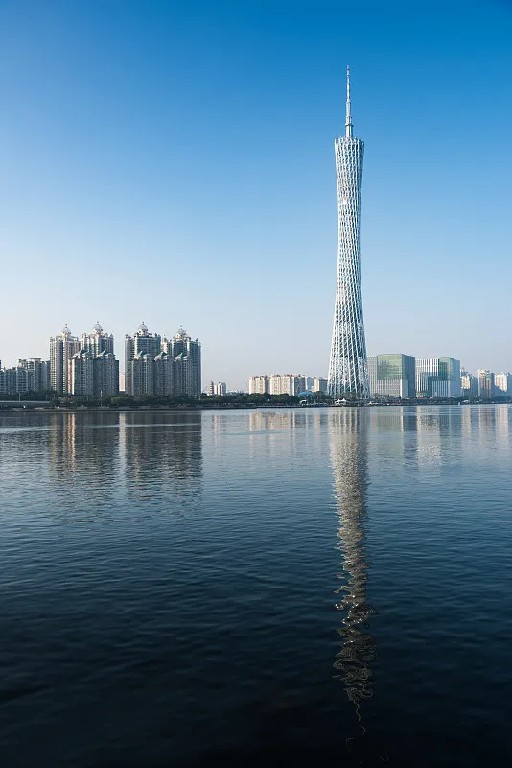Canton: (326, 61, 368, 398)
